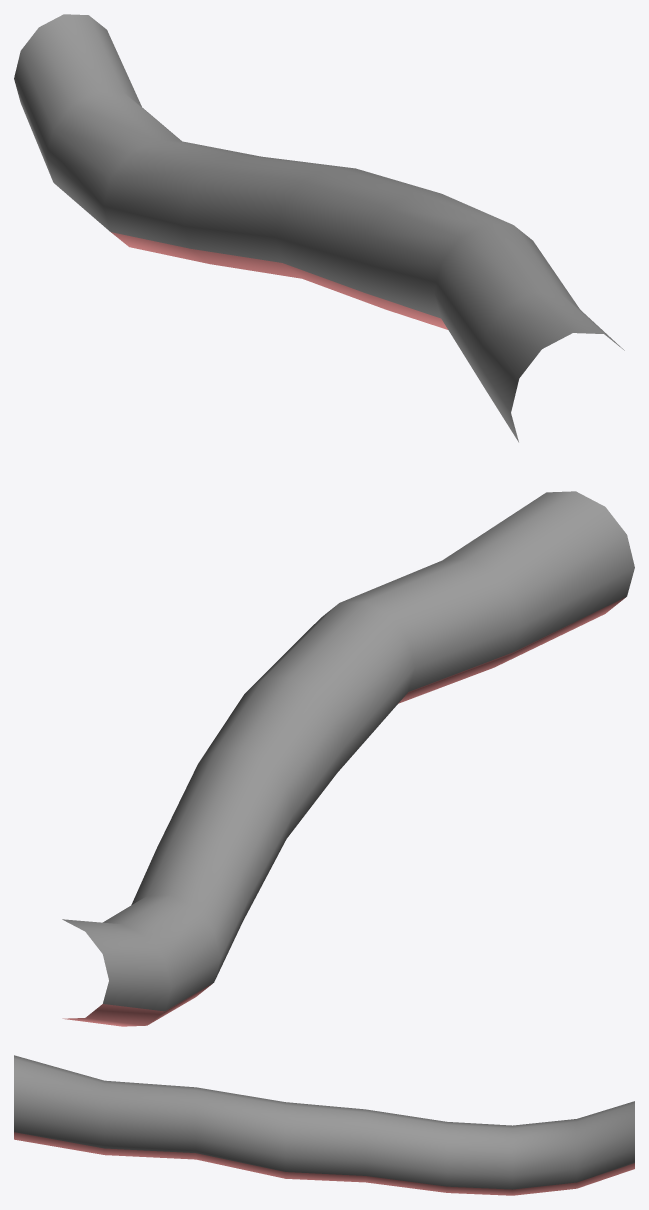
3 renders of one model, top to bottom at view 1: azimuth 30°, elevation 25°; view 2: azimuth 150°, elevation 25°; view 3: azimuth 270°, elevation 25°, orthographic. The views are drawn at different scales.
Parts seen in each view (by area): view 1: root_05_02; view 2: root_05_02; view 3: root_05_02.
Boxes of the visible parts, box(x1,y1,x2,y2) form: root_05_02: box(14, 14, 624, 442); root_05_02: box(62, 491, 634, 1026); root_05_02: box(14, 1055, 634, 1195).
Size of the model in its own units: 11.2 by 12.74 by 54.06.
